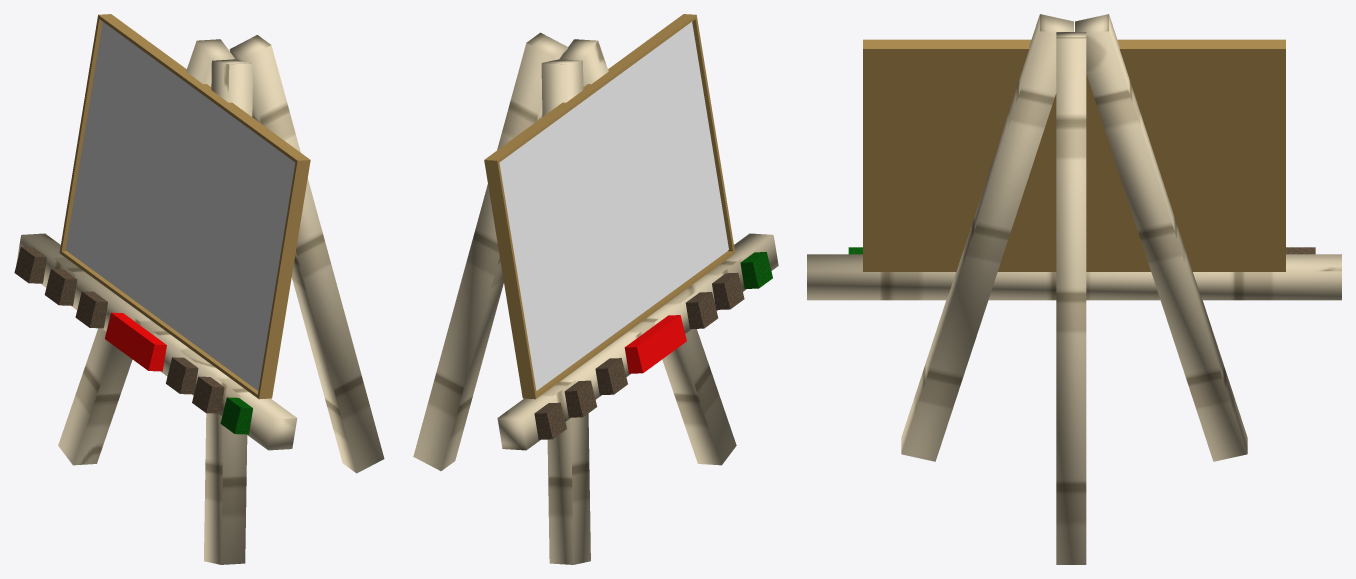
Rendered from item-easel.glb.
The picture shows the model from 3 angles, left to right: view 1: azimuth 30°, elevation 25°; view 2: azimuth 150°, elevation 25°; view 3: azimuth 270°, elevation 25°; orthographic projection. The views are drawn at different scales.
Size of the model in its own units: 4.55 by 7.88 by 8.02.
7 materials, 3 textured.
